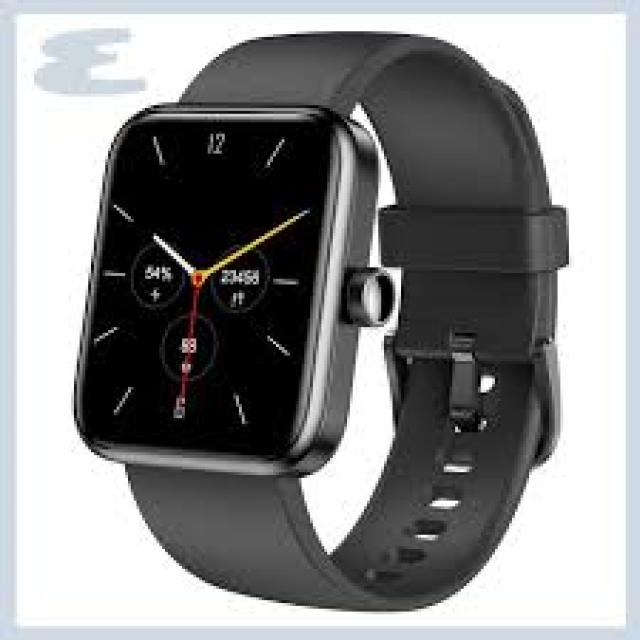objects: (74, 31, 566, 609)
